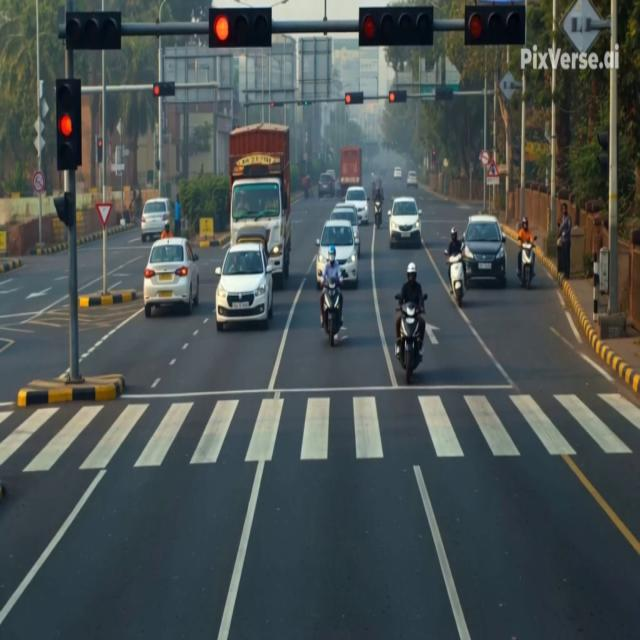car: (215, 242, 272, 330), (143, 238, 199, 317), (462, 215, 506, 287), (316, 220, 359, 288), (388, 197, 421, 248), (140, 198, 170, 243), (330, 204, 359, 238), (345, 187, 369, 224), (318, 173, 334, 198), (407, 171, 417, 188), (325, 169, 335, 182), (394, 168, 402, 179)
scooty: (396, 303, 422, 383), (323, 280, 340, 346), (445, 251, 465, 307), (519, 242, 534, 288), (374, 200, 382, 229), (303, 176, 309, 199)
traffic signal: (359, 7, 433, 47), (465, 5, 525, 46), (209, 8, 271, 47), (56, 79, 81, 171), (65, 12, 121, 50), (54, 192, 74, 227), (597, 132, 609, 175), (153, 82, 175, 97), (435, 86, 453, 101), (389, 90, 406, 103), (345, 92, 363, 104), (96, 136, 102, 163), (431, 148, 436, 169), (270, 102, 283, 108), (301, 100, 309, 105)
truck: (229, 123, 290, 287), (340, 147, 361, 195)
